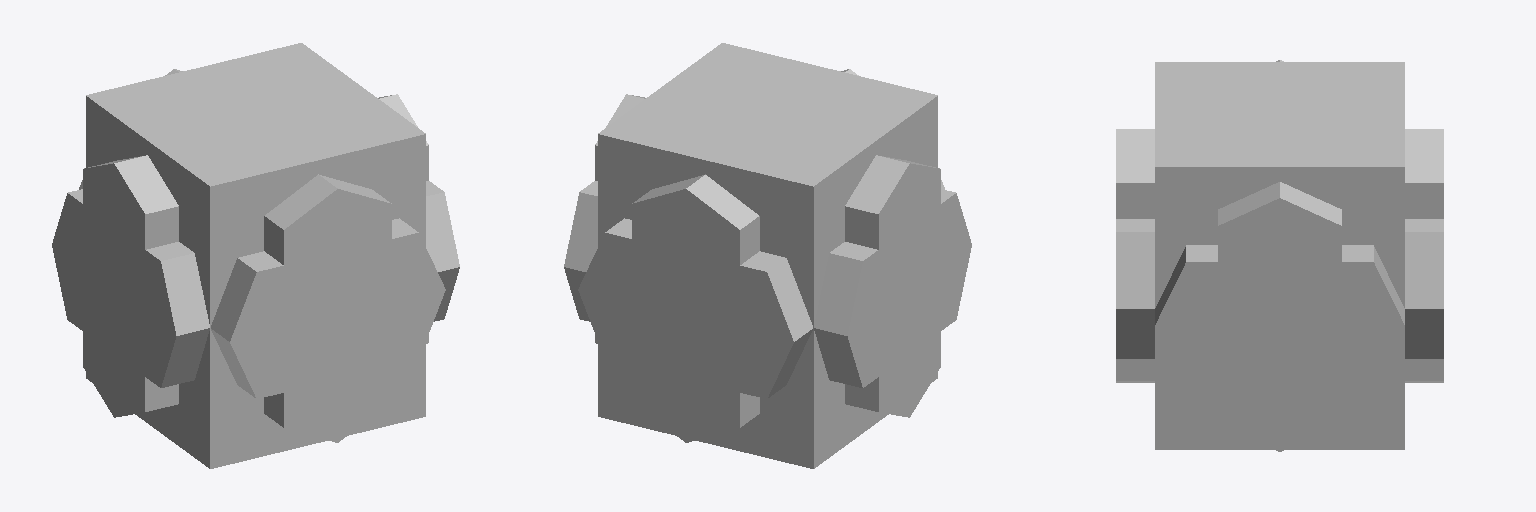
File: CrystalController.obj
The picture shows the model from 3 angles: view 1: azimuth 30°, elevation 25°; view 2: azimuth 150°, elevation 25°; view 3: azimuth 270°, elevation 25°; orthographic projection.
Parts seen in each view (by area): view 1: pCube1; view 2: pCube1; view 3: pCube1.
Part boxes in pixels (x1,y1,x2,y2): pCube1: (52, 43, 459, 468); pCube1: (564, 43, 971, 468); pCube1: (1116, 60, 1443, 451).
Size of the model in its own units: 1.05 by 1 by 1.05.